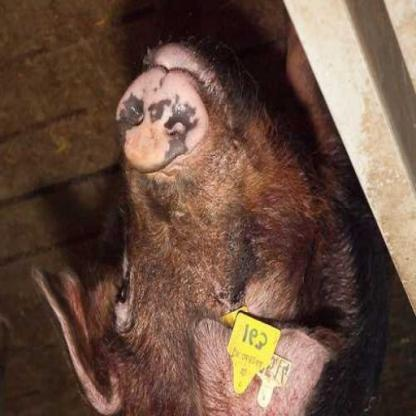boar: (52, 32, 416, 416)
